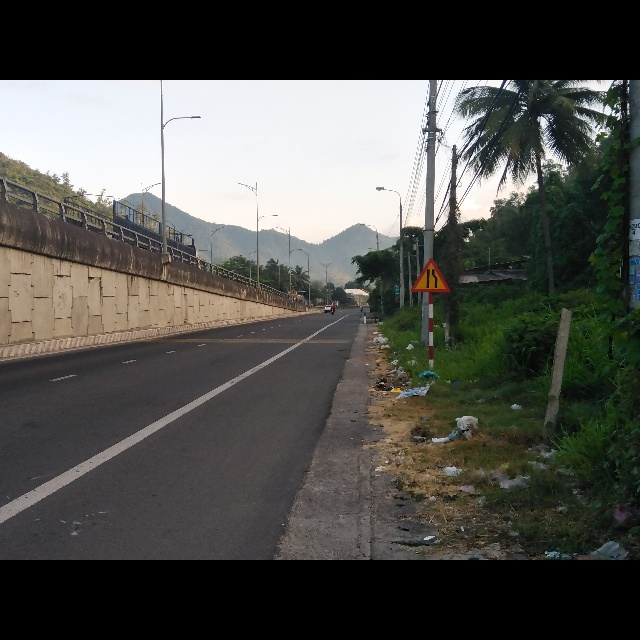Đường bị hẹp bên phải: (411, 258, 451, 293)
